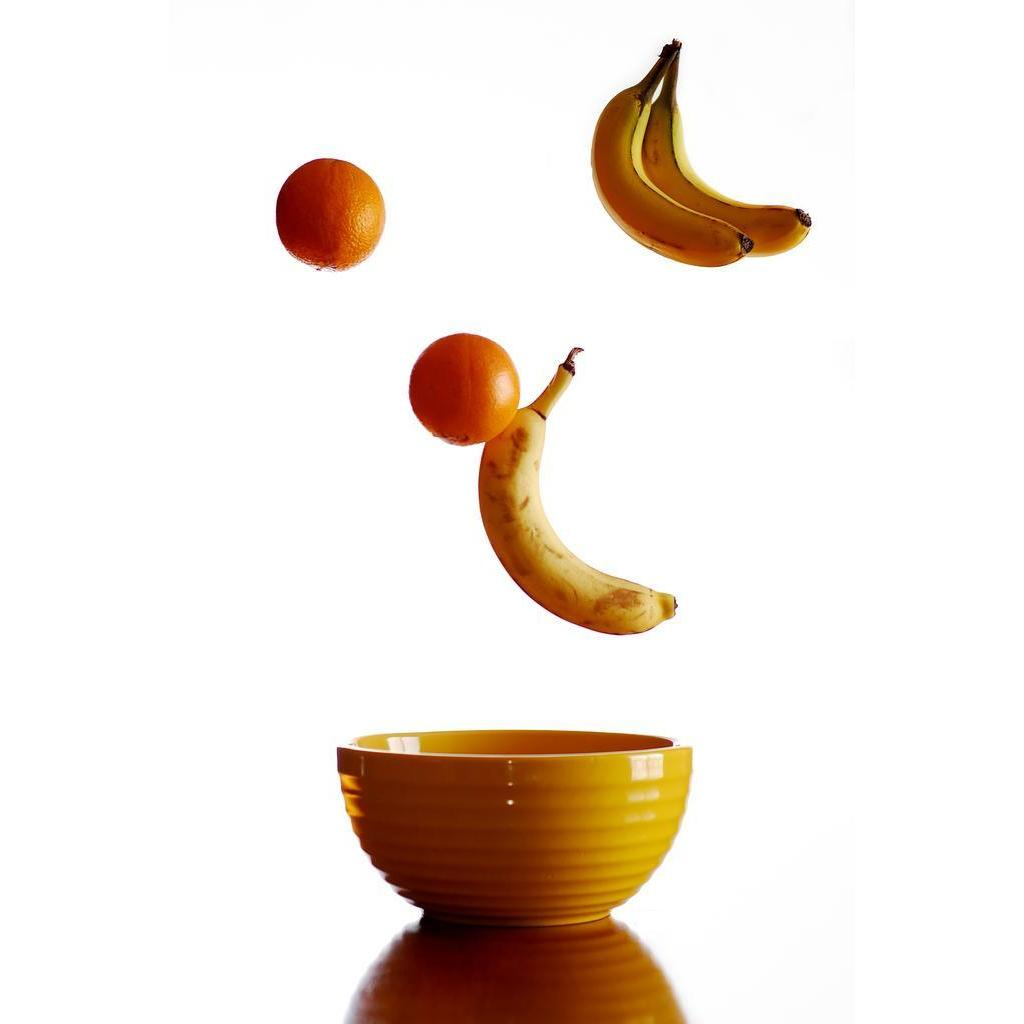banana: (477, 351, 675, 637), (589, 42, 814, 273)
